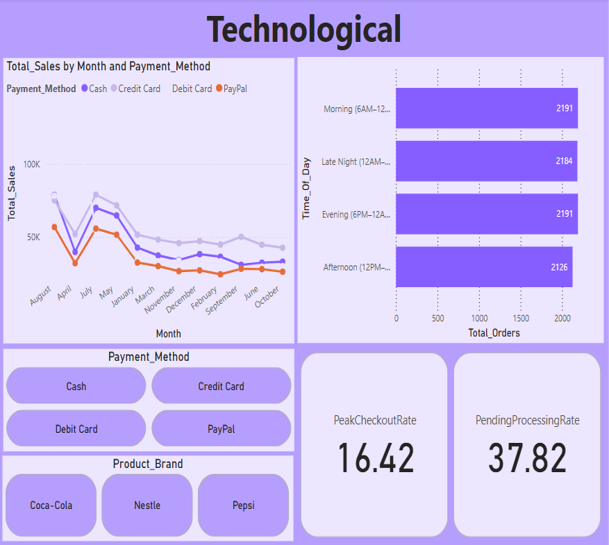

The page's visual inventory and layout, read from the dashboard file:
{"tool":"powerbi","page":{"name":"Technological","canvas":[1280,720],"ordinal":4},"visuals":[{"type":"shape","box":[9.6,0,306,720.4],"z":0},{"type":"textbox","box":[315.6,0,964.7,76.8],"z":1000},{"type":"textbox","box":[26.1,38.4,275.8,96.1],"z":2000},{"type":"pageNavigator","box":[62.7,150.9,200.9,561.8],"z":3000},{"type":"lineChart","fields":{"Category":["cleaned_new_retail_data.Month"],"Y":["cleaned_new_retail_data.Total_Sales"],"Series":["cleaned_new_retail_data.Payment_Method"]},"box":[322,78,460,374],"z":4000},{"type":"barChart","fields":{"Y":["cleaned_new_retail_data.Total_Orders"],"Category":["cleaned_new_retail_data.Time_Of_Day"]},"box":[788.3,77.5,484.2,375],"z":5000},{"type":"advancedSlicerVisual","fields":{"Values":["cleaned_new_retail_data.Payment_Method"]},"box":[322.5,460,460,134.2],"z":6000},{"type":"advancedSlicerVisual","fields":{"Values":["cleaned_new_retail_data.Product_Brand"]},"box":[321.7,600,460,111.7],"z":7000},{"type":"cardVisual","fields":{"Data":["cleaned_new_retail_data.PeakCheckoutRate","cleaned_new_retail_data.PendingProcessingRate"]},"box":[788,460,484,252],"z":8000}]}

Visuals, with their boxes on the page's 1280x720 design canvas (x1, y1, x2, y2). These are canvas units, not pixel positions in the 609x545 screenshot, which may show the page scaled, cropped or inside an application window:
shape: crop(10, 0, 316, 720)
textbox: crop(316, 0, 1280, 77)
textbox: crop(26, 38, 302, 134)
pageNavigator: crop(63, 151, 264, 713)
lineChart - cleaned_new_retail_data.Month x cleaned_new_retail_data.Total_Sales: crop(322, 78, 782, 452)
barChart - cleaned_new_retail_data.Total_Orders x cleaned_new_retail_data.Time_Of_Day: crop(788, 78, 1272, 452)
advancedSlicerVisual - cleaned_new_retail_data.Payment_Method: crop(322, 460, 782, 594)
advancedSlicerVisual - cleaned_new_retail_data.Product_Brand: crop(322, 600, 782, 712)
cardVisual - cleaned_new_retail_data.PeakCheckoutRate x cleaned_new_retail_data.PendingProcessingRate: crop(788, 460, 1272, 712)
